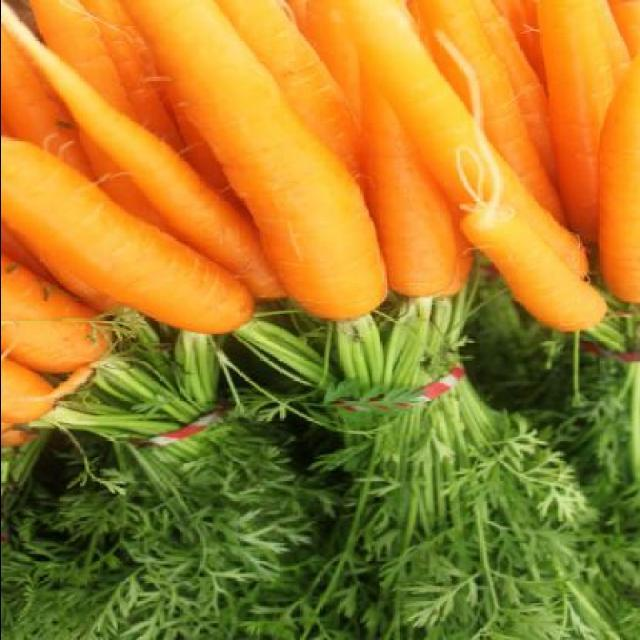Carrot: (1, 1, 638, 444), (597, 45, 640, 308)
